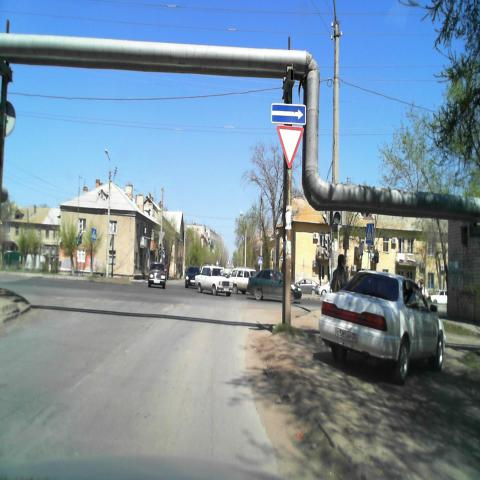5_7_1: (271, 103, 306, 125)
